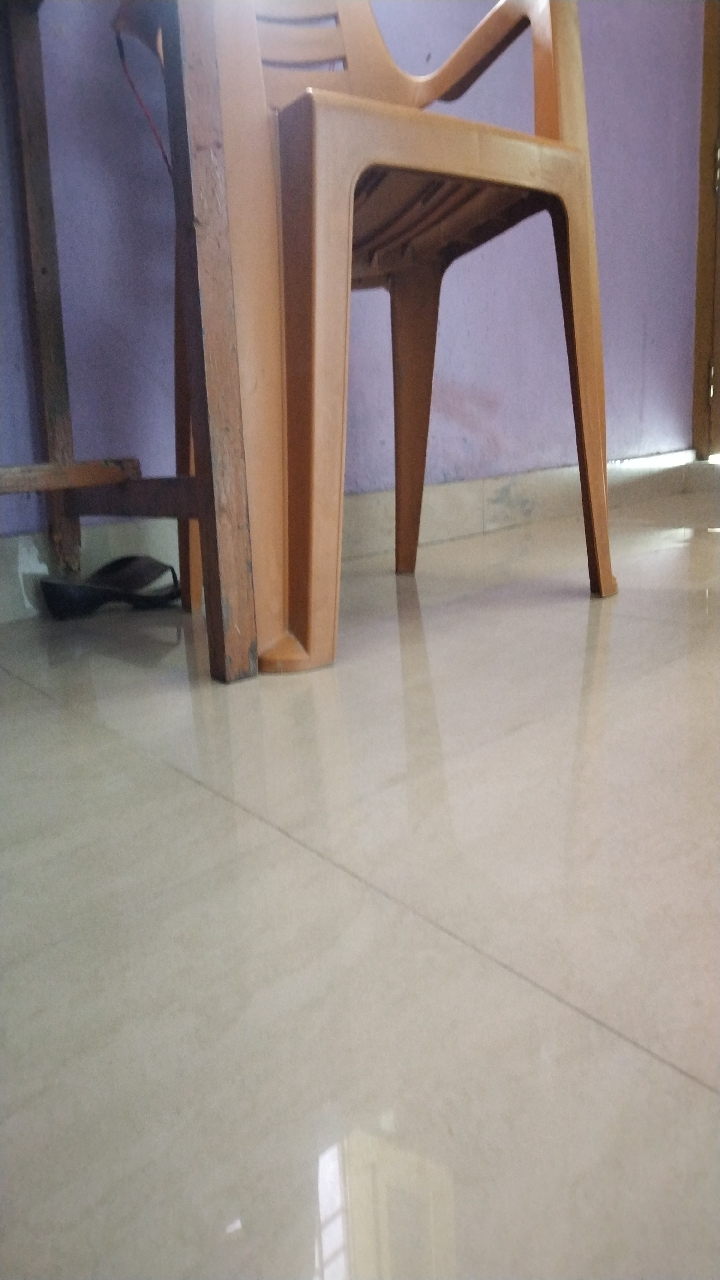Furnitures: (264, 103, 658, 690), (1, 119, 254, 692)
